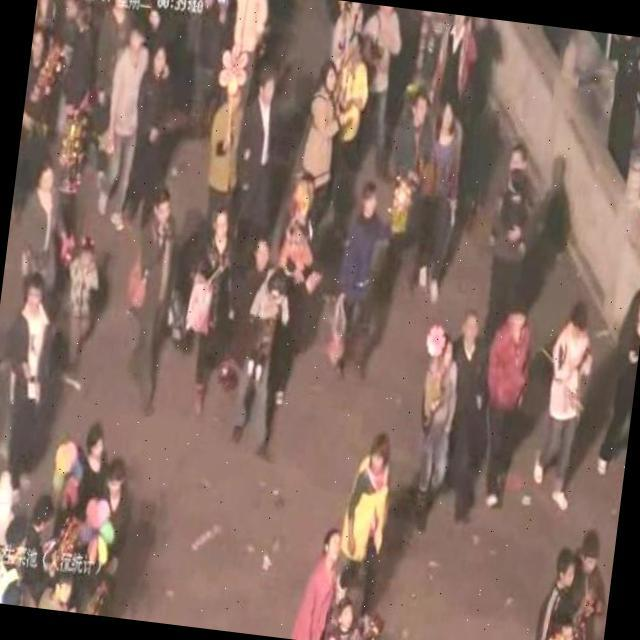person: (114, 178, 192, 416), (526, 295, 606, 517), (0, 271, 79, 491), (175, 193, 248, 414), (468, 297, 541, 517), (372, 88, 442, 302), (411, 91, 474, 307), (90, 14, 152, 233), (404, 328, 469, 534), (324, 176, 388, 384), (438, 308, 494, 530), (587, 279, 640, 509), (228, 58, 290, 247), (480, 130, 544, 305), (347, 3, 408, 184), (292, 54, 350, 240), (124, 40, 177, 221), (12, 152, 70, 300), (54, 225, 110, 369), (287, 522, 346, 640), (528, 537, 588, 640), (564, 526, 616, 640), (94, 451, 138, 582), (431, 12, 484, 104), (74, 417, 114, 526), (326, 590, 374, 640)
